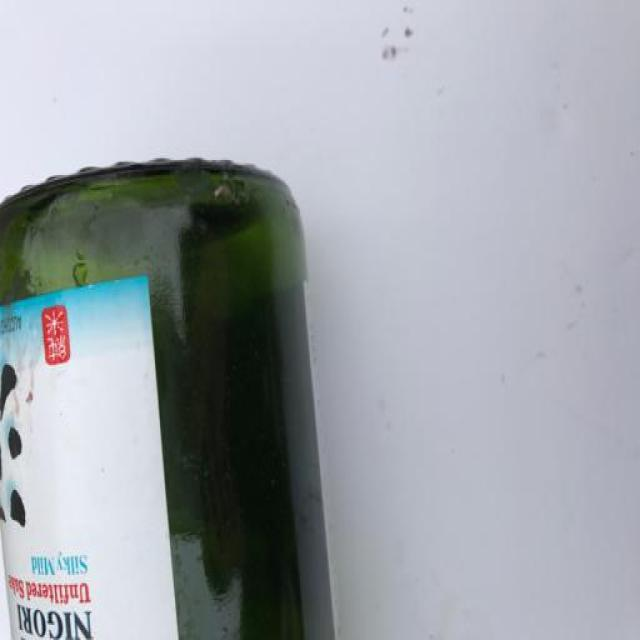Glass: (0, 117, 357, 640)
